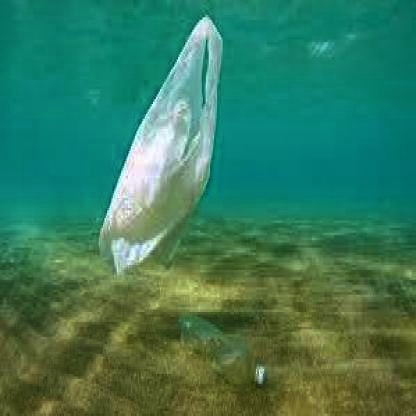pbag: (96, 18, 223, 278)
pbottle: (178, 312, 264, 394)
